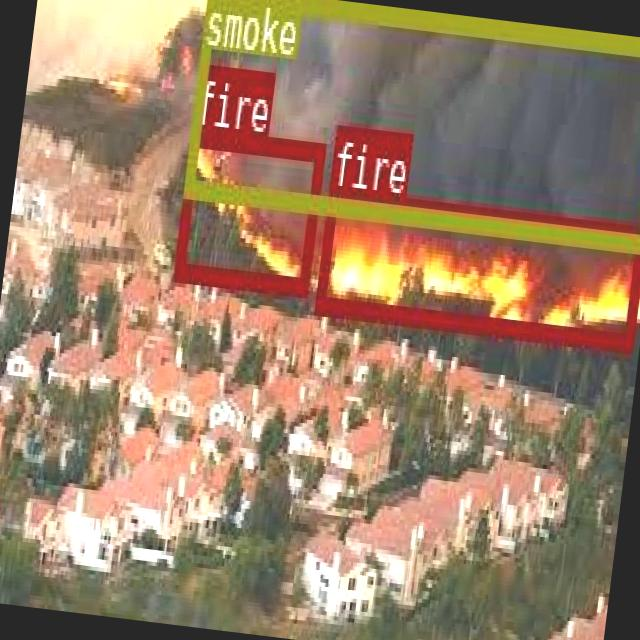fire: (313, 184, 640, 347), (172, 124, 324, 293)
smoke: (183, 0, 640, 247)
